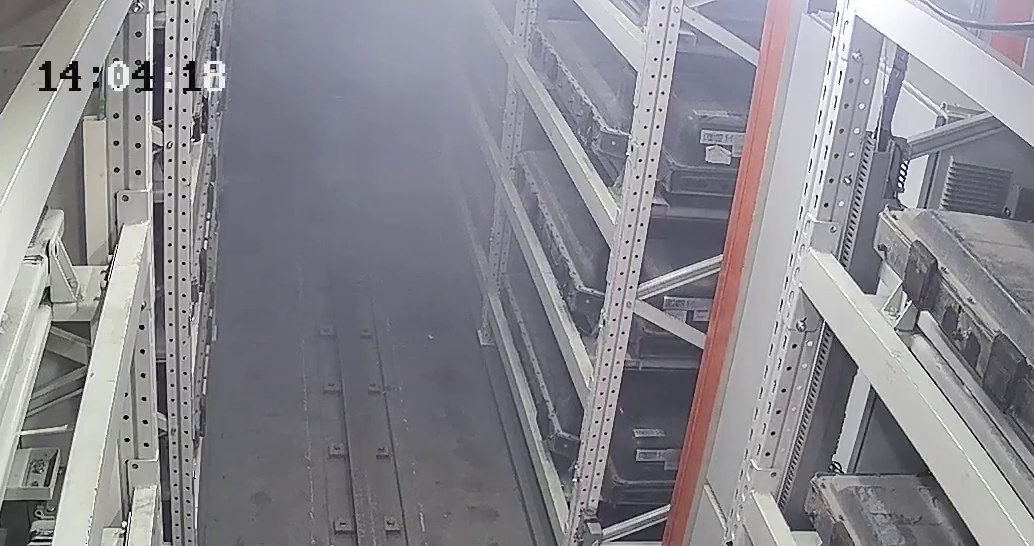smoke: (294, 13, 487, 247)
